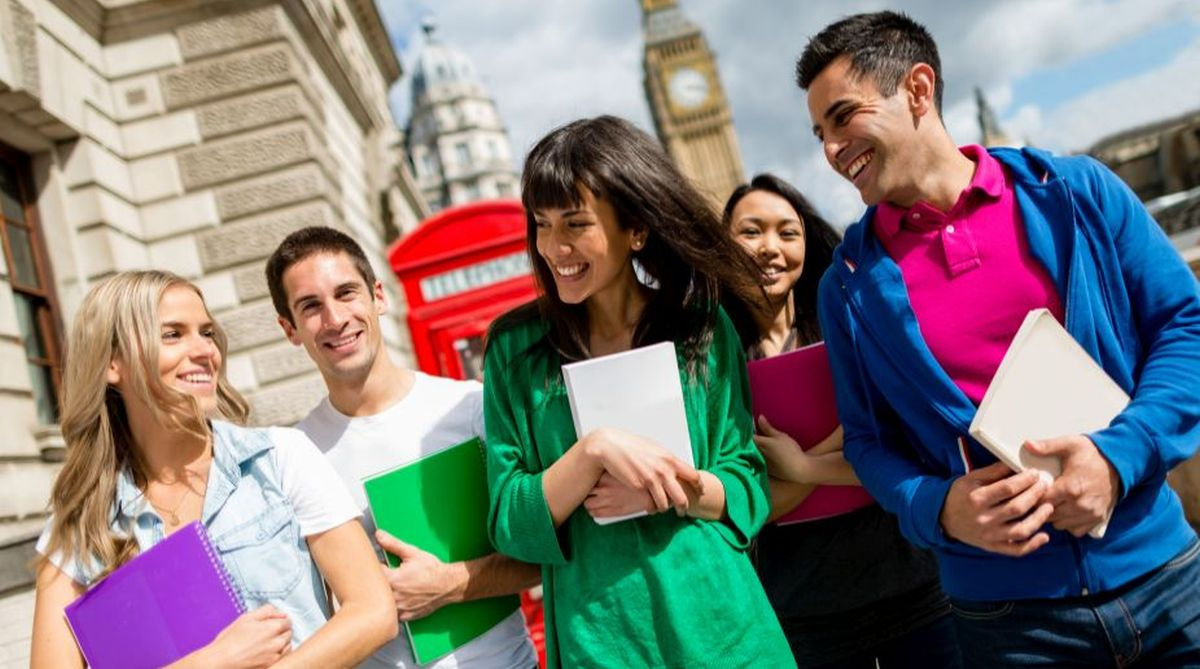Person: (782, 22, 1194, 669), (476, 117, 776, 605), (64, 281, 364, 669), (247, 228, 453, 440)
